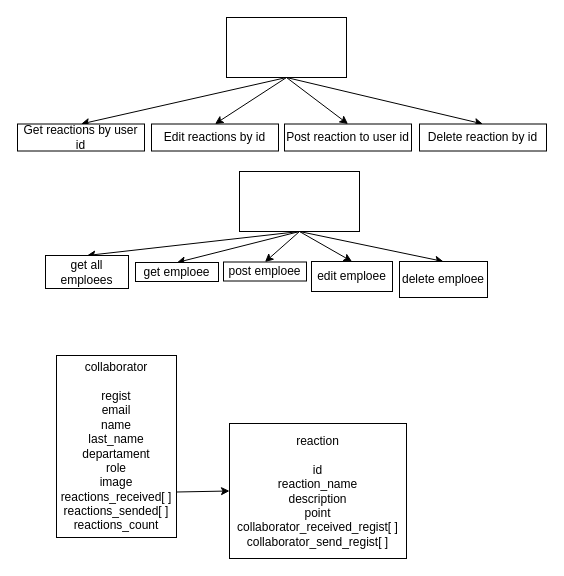
Image size: 564x576. Some labels were removed from this diagram. The centre of each missing label's shape, as x and y in pixels:
"collaborator" goes at (299,201).
"reação" goes at (286,47).
